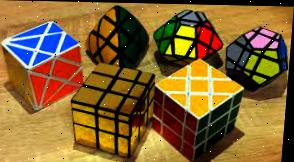cube: (152, 57, 247, 158), (70, 60, 157, 156), (0, 20, 87, 111)
